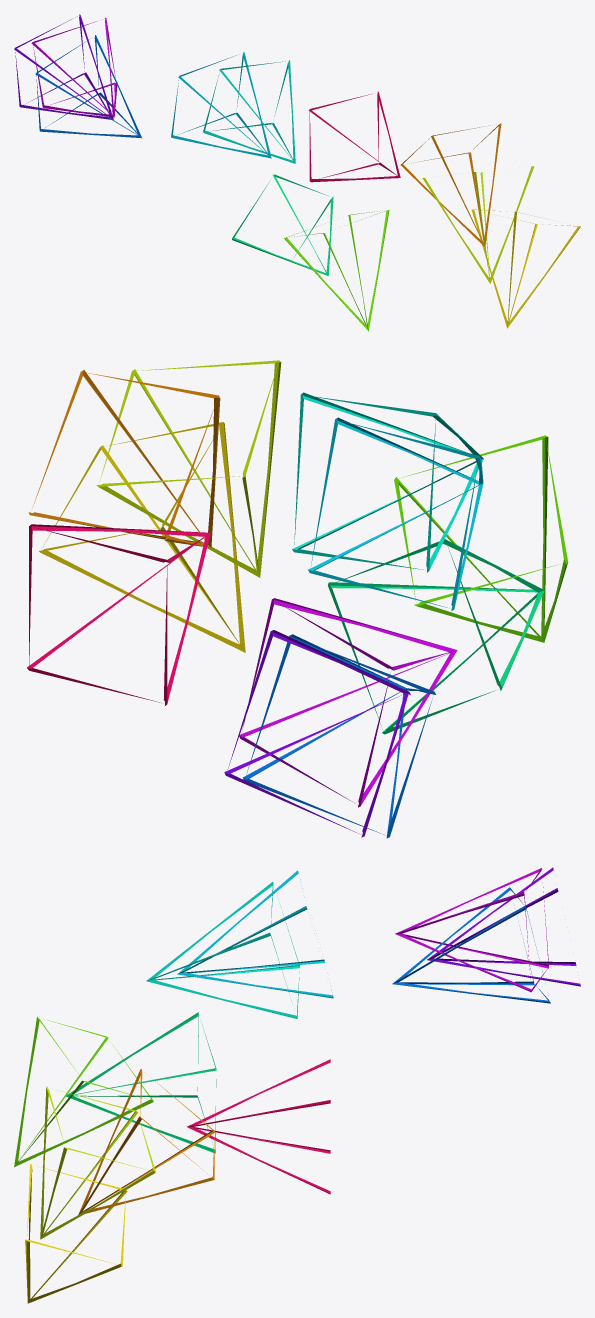
Rendered from pitch_180_wrist_video_100.glb.
The picture shows the model from 3 angles, top to bottom: view 1: azimuth 30°, elevation 25°; view 2: azimuth 150°, elevation 25°; view 3: azimuth 270°, elevation 25°; orthographic projection. The views are drawn at different scales.
Visible parts, largest first — view 1: world; view 2: world; view 3: world.
Part boxes in pixels (box(x1,y1,x2,y2)): world: box(14, 14, 580, 331); world: box(27, 360, 568, 838); world: box(14, 867, 580, 1303).
Size of the model in its own units: 0.8767 by 0.5486 by 0.9307.
